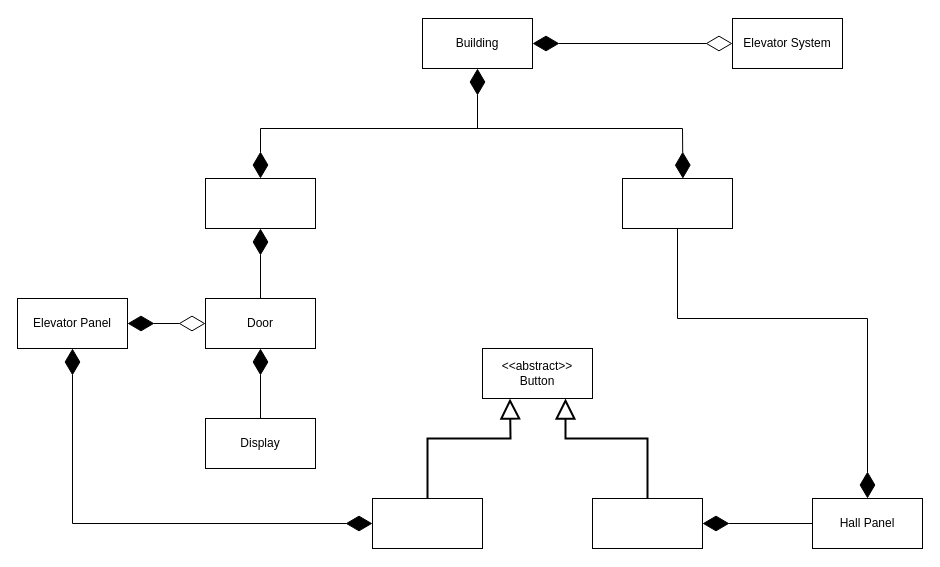
Image size: 940x567. Some labels were removed from this diagram. Each missing label, with the centre of its shape:
Elevator: point (260, 203)
Elevator Button: point (427, 523)
Floor: point (677, 203)
Hall Button: point (647, 523)
